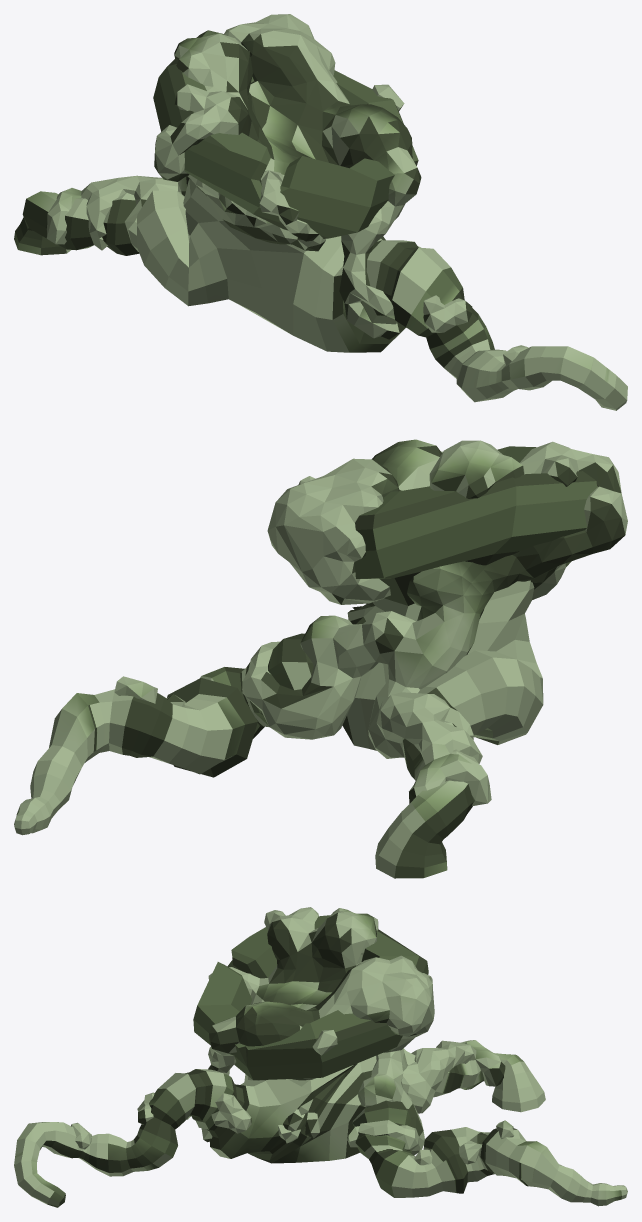
Rendered from EA_Swamp_tree10_Moss_01a.glb.
The picture shows the model from 3 angles, top to bottom: view 1: azimuth 30°, elevation 25°; view 2: azimuth 150°, elevation 25°; view 3: azimuth 270°, elevation 25°; orthographic projection. The views are drawn at different scales.
Visible parts, largest first — view 1: EA_Swamp_tree10_Moss_01a; view 2: EA_Swamp_tree10_Moss_01a; view 3: EA_Swamp_tree10_Moss_01a.
Boxes of the visible parts, x1,y1,x2,y2 form: EA_Swamp_tree10_Moss_01a: (14,14,627,410); EA_Swamp_tree10_Moss_01a: (14,439,627,878); EA_Swamp_tree10_Moss_01a: (14,907,627,1207).
Size of the model in its own units: 4.88 by 3.86 by 9.87.
1 material, 1 textured.
